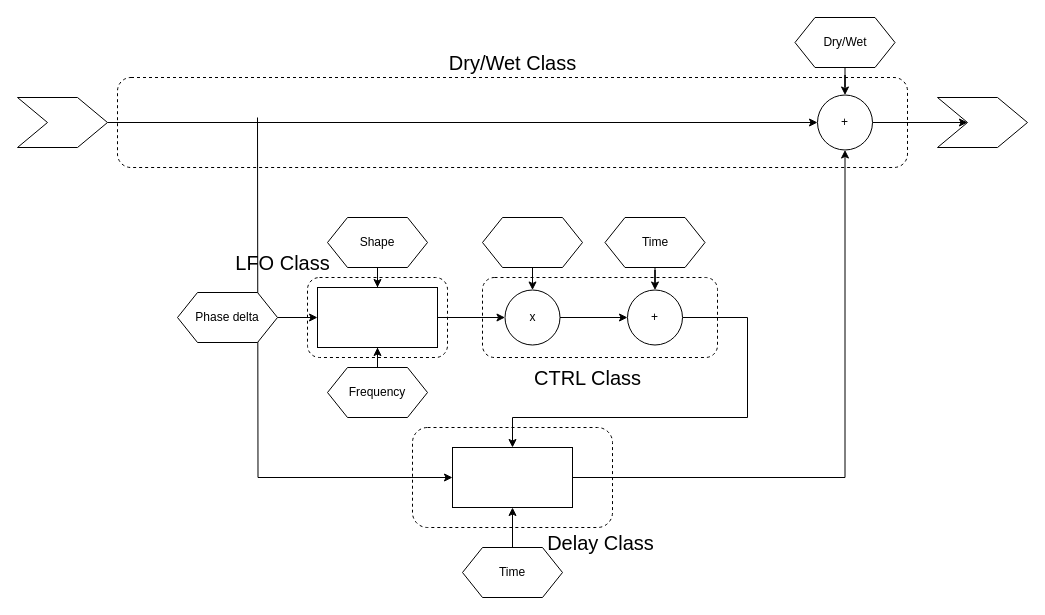
Image size: 1045x615. Some labels were removed from this diagram. The centre of each missing label's shape, as x and y in pixels:
"Amount" goes at (532,242).
"Delay" goes at (512,477).
"Input" goes at (62,122).
"LFO" goes at (377,317).
"Output" goes at (982,122).
